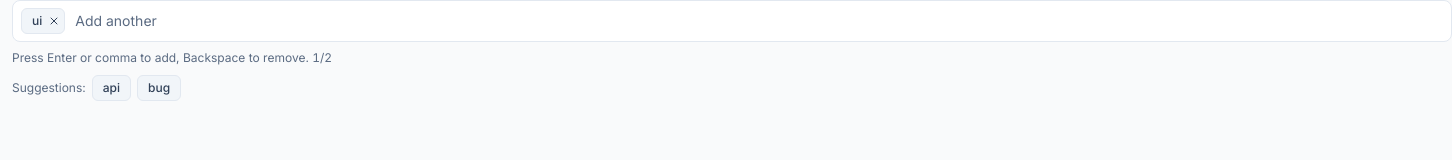
Scenario: TagInput › offers suggestions and stops at the maximum
Click the button with aria-label "Add label api": (111, 88) [92,74,131,101]
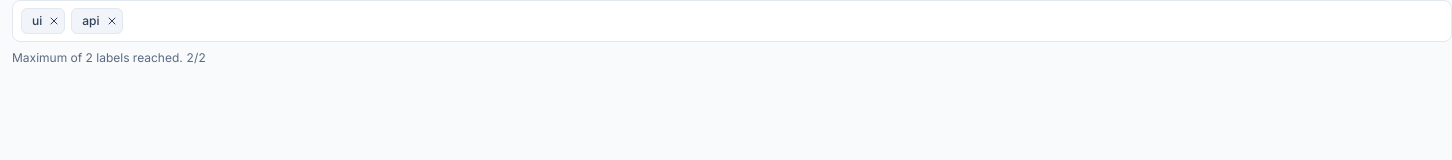
Check: the text "Maximum of 2 labels reached." is shown, box [12,50,183,65]
